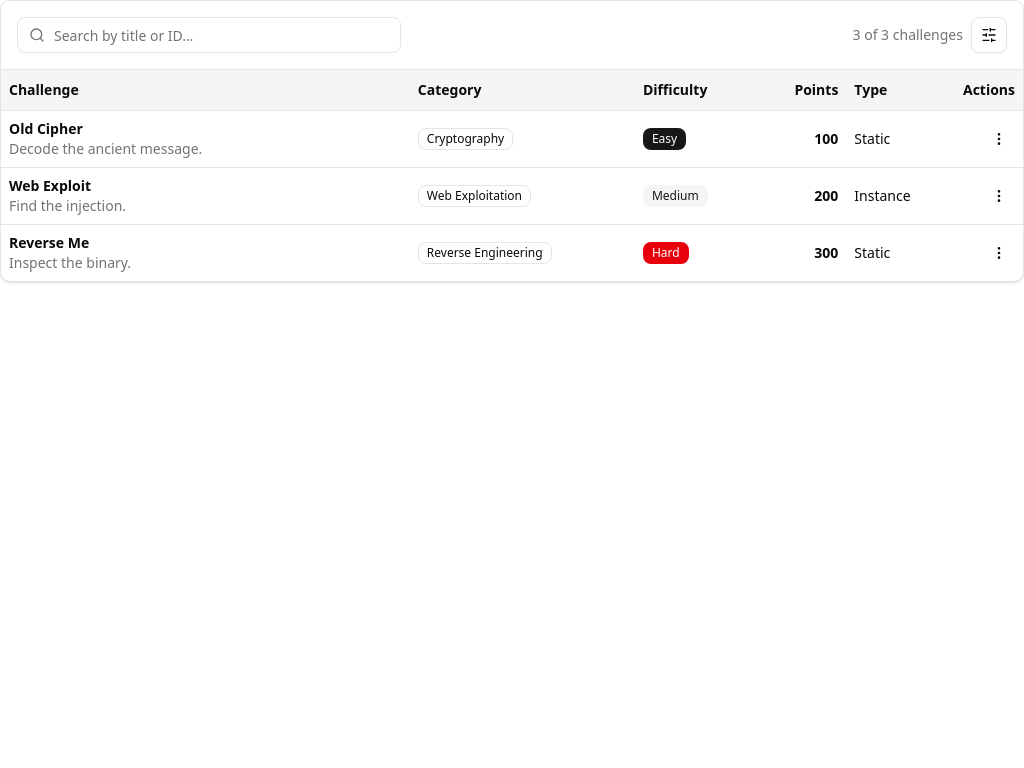
Test case: admin challenge filters › combines category and type filters and clears them
What coordinates should you click on to do the following:
click the button named "Filters"
I would click on:
 (989, 35)
Its box is [971,17,1007,53].
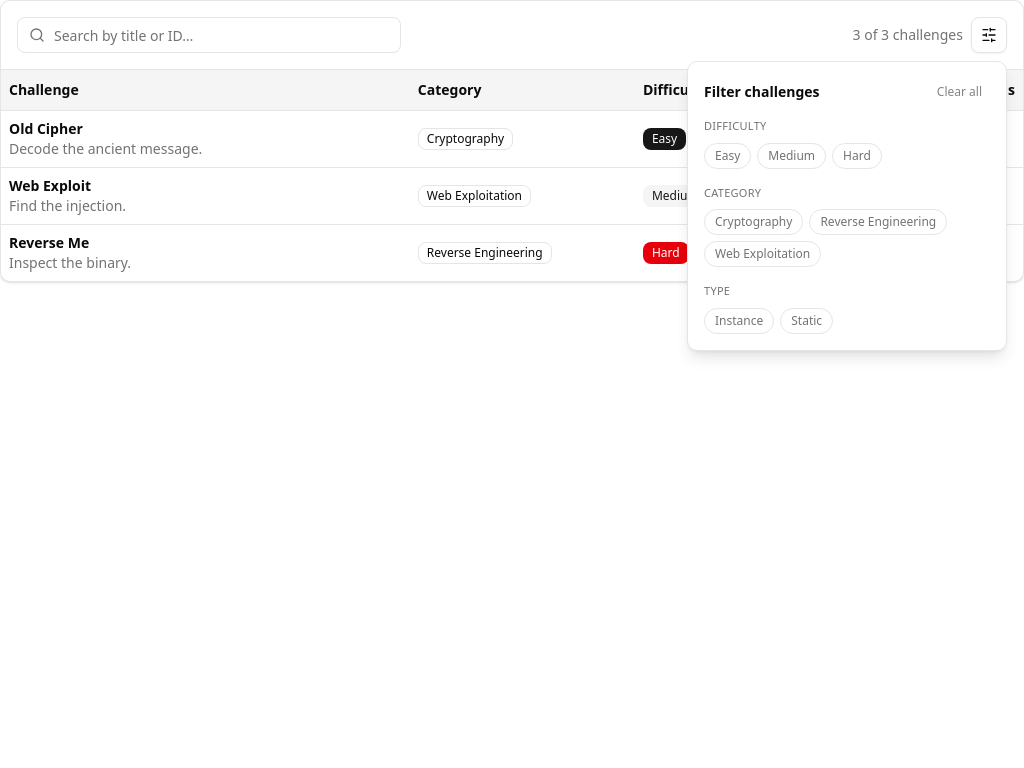
What coordinates should you click on to do the following:
click the button "web exploitation"
I would click on:
 (763, 254)
Its box is [704,241,821,267].
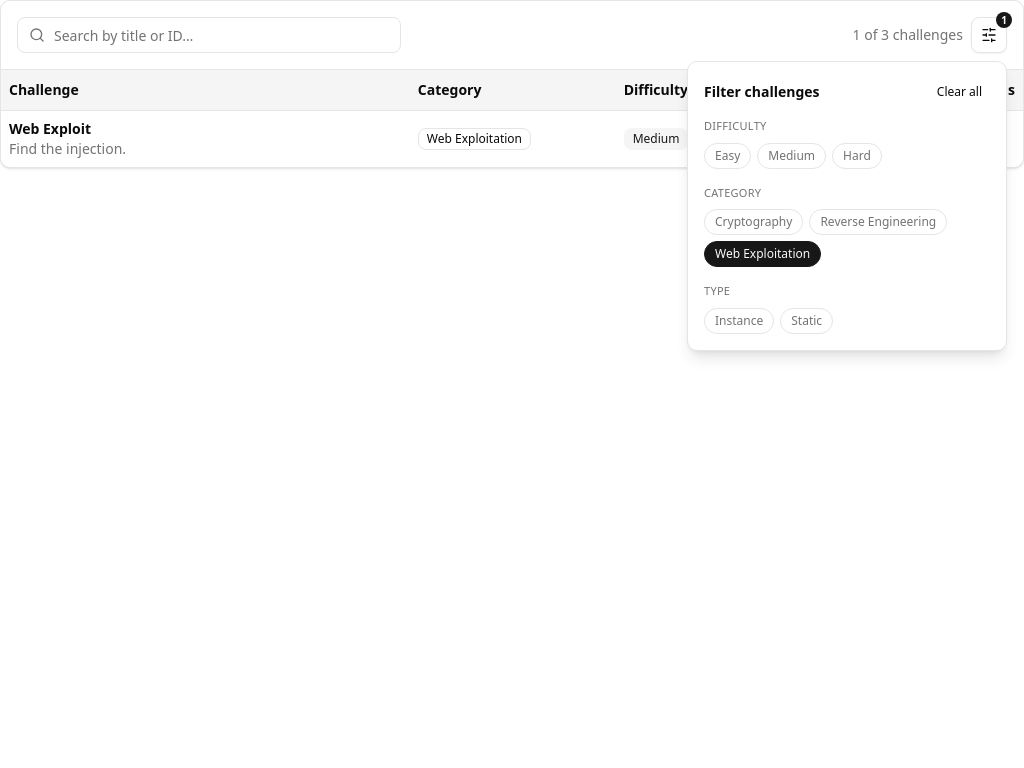
What coordinates should you click on to do the following:
click the button "Instance"
I would click on:
 (739, 320)
Its box is [704,308,774,334].
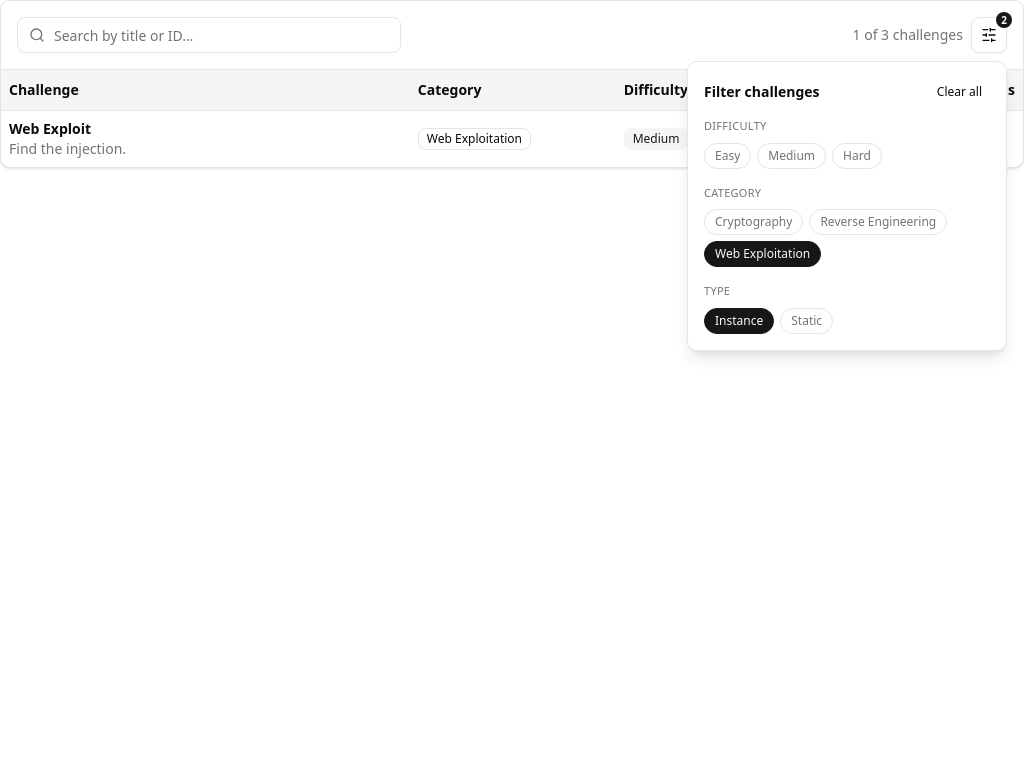
Expected: the text "Web Exploit" is shown, [9,118,91,138]
Expected: the text "1 of 3 challenges" is shown, [852,25,963,45]
What coordinates should you click on to do the following:
click the button "Instance"
I would click on:
 (739, 320)
Its box is [704,308,774,334].
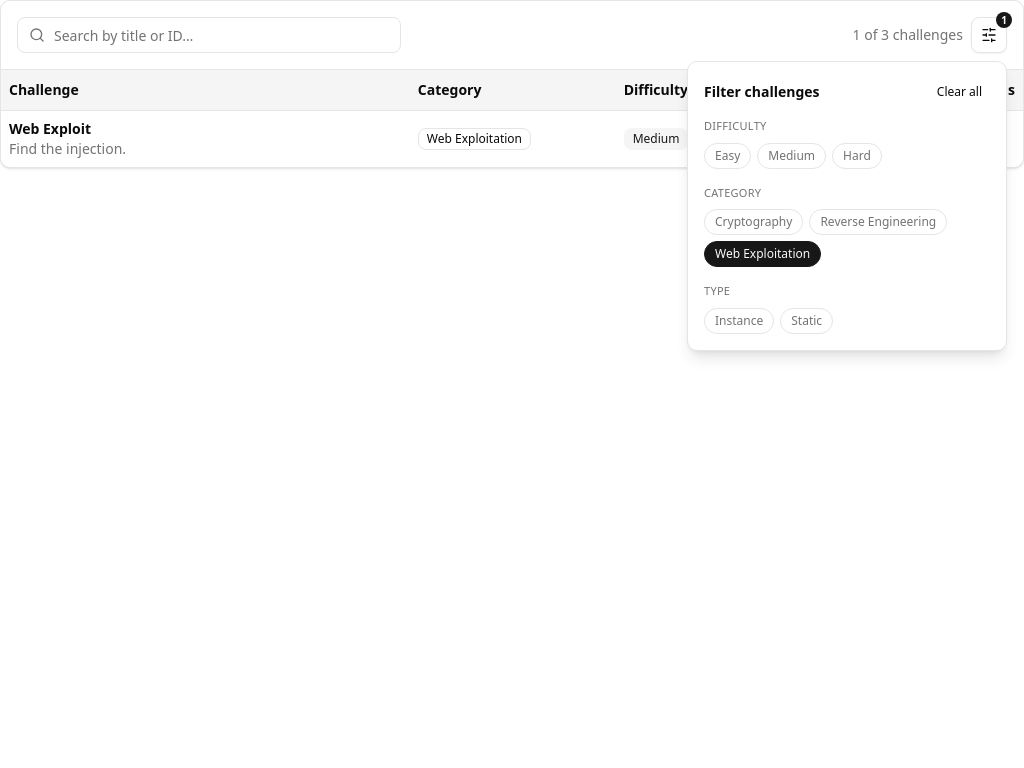
What coordinates should you click on to do the following:
click the button "hard"
I would click on:
 (857, 156)
Its box is [832,142,882,168].
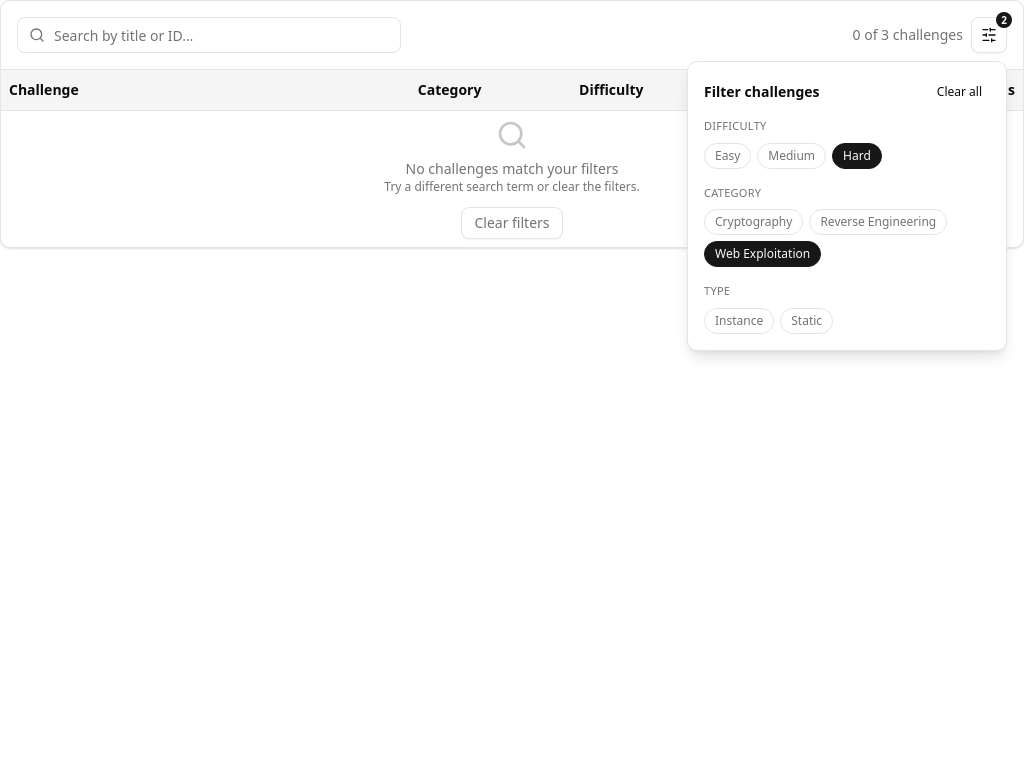
Expected: the text "No challenges match your filters" is shown, [406,158,618,178]
What coordinates should you click on to do the following:
click the button "Clear filters"
I would click on:
 (512, 222)
Its box is [461,206,562,238].
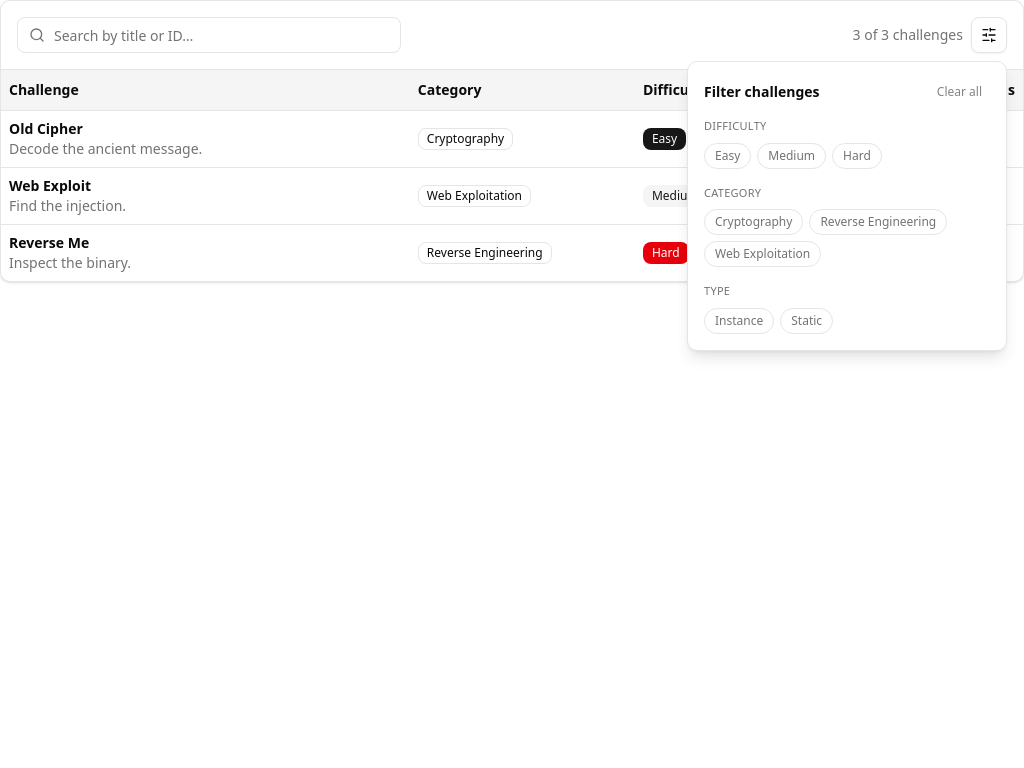
Expected: the text "Old Cipher" is shown 3 times, [9,118,83,138]; [9,176,91,194]; [9,232,89,252]
Expected: the text "3 of 3 challenges" is shown, [852,25,963,45]
